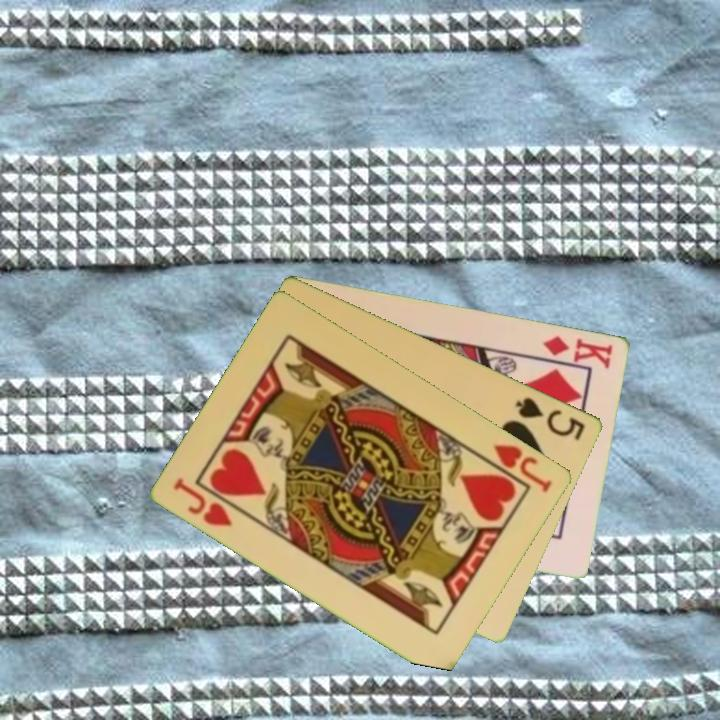5s: (513, 393, 589, 443)
Jh: (477, 440, 556, 496), (170, 473, 236, 530)
Kd: (540, 331, 616, 372)
